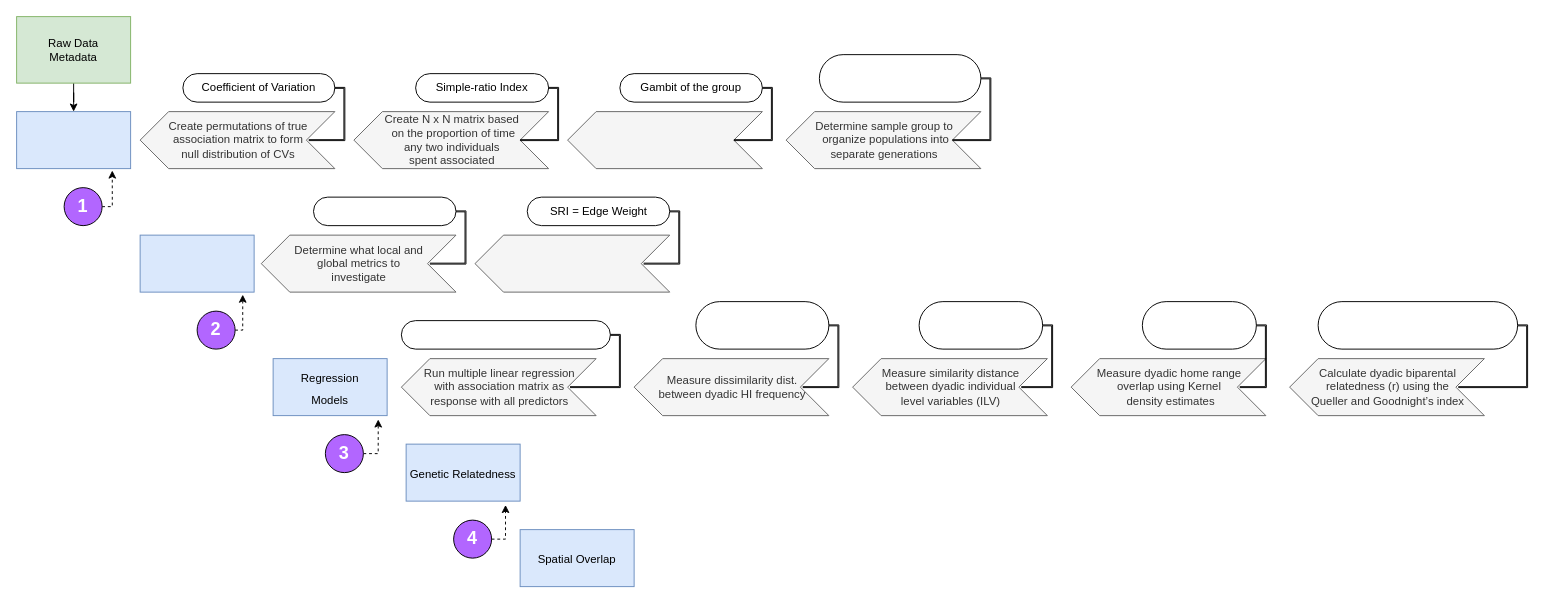
This 1545x603 diagram has some shape labels left out. The shapes that lost their labels are listed below. From the top down, each one's centre as x and y in pixels, then its label:
At point 899,78: "At least 10 observations per individual".
At point 73,140: "Social Association Matrix".
At point 664,140: "Which individuals are in the same group?".
At point 384,211: "Local/Global Metrics".
At point 196,263: "Social Network Structure".
At point 572,263: "Create undirected weighted network with social association matrix".
At point 505,334: "SRI ~ ILV + GR + HRO + HI Freq".
At point 762,325: "Euclidian Distance (HI Freq)".
At point 980,325: "Similarity Matrix (ILV)".
At point 1198,325: "Kernel Density (HRO)".
At point 1417,325: "Queller and Goodnight’s index (GR)".
